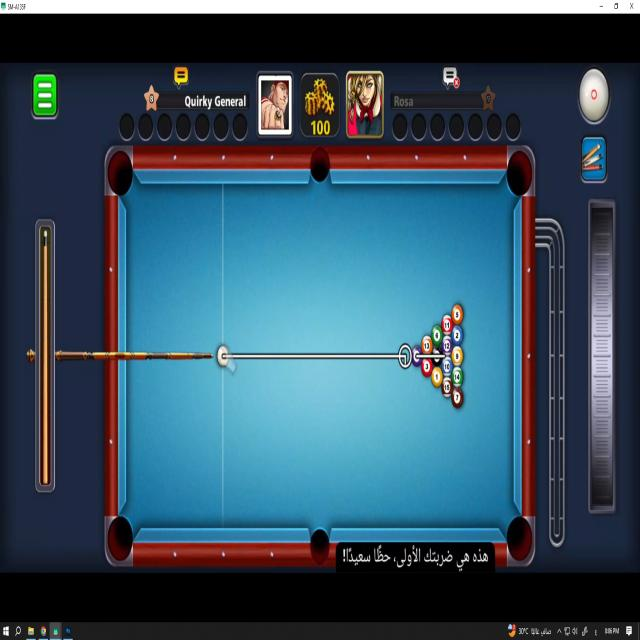object_ball: (441, 357, 453, 378), (451, 346, 463, 366), (441, 335, 453, 355), (431, 325, 442, 346), (431, 367, 442, 387), (452, 388, 463, 408), (442, 378, 453, 398), (421, 359, 433, 377), (452, 367, 463, 386), (442, 357, 453, 376), (442, 315, 452, 335), (452, 304, 462, 324), (452, 326, 462, 345), (421, 336, 432, 353), (433, 348, 443, 366), (412, 347, 421, 366)
white_cue_ball: (217, 345, 228, 366)
